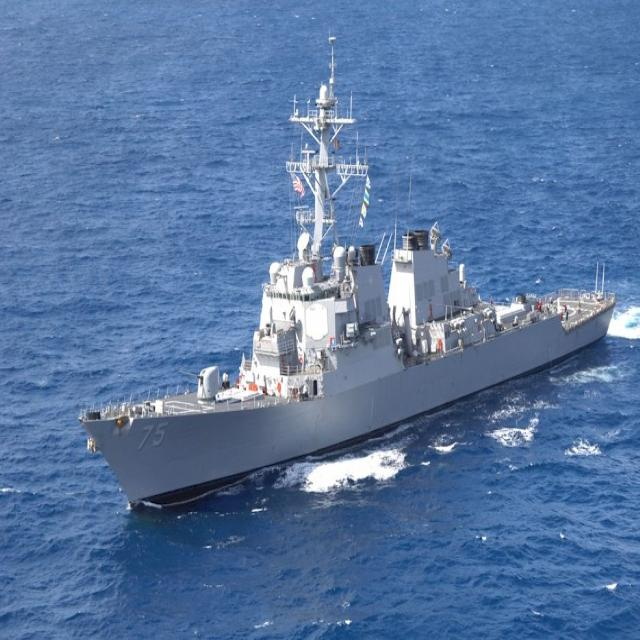navalvessels: (69, 51, 620, 510)
